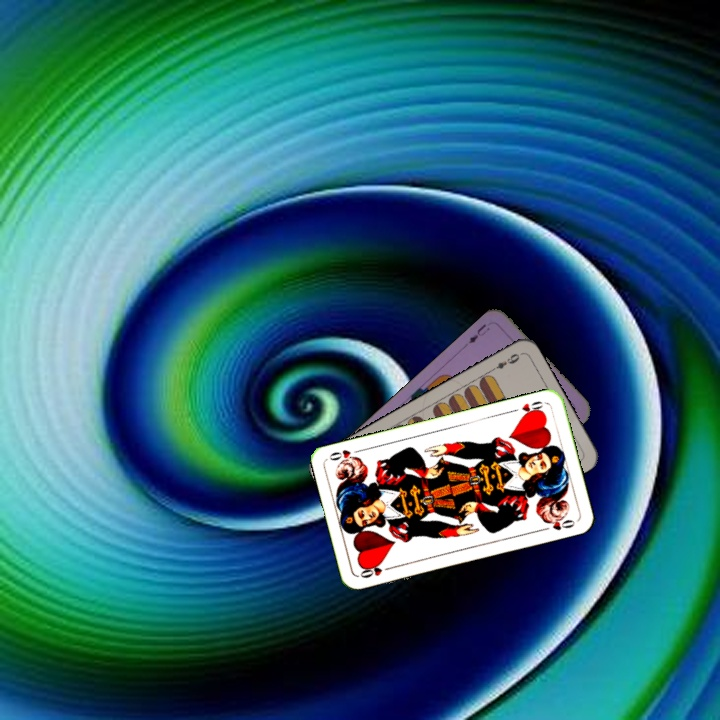E9: (486, 349, 522, 374)
EU: (464, 320, 492, 346)
HO: (356, 560, 395, 581), (508, 397, 545, 419)
